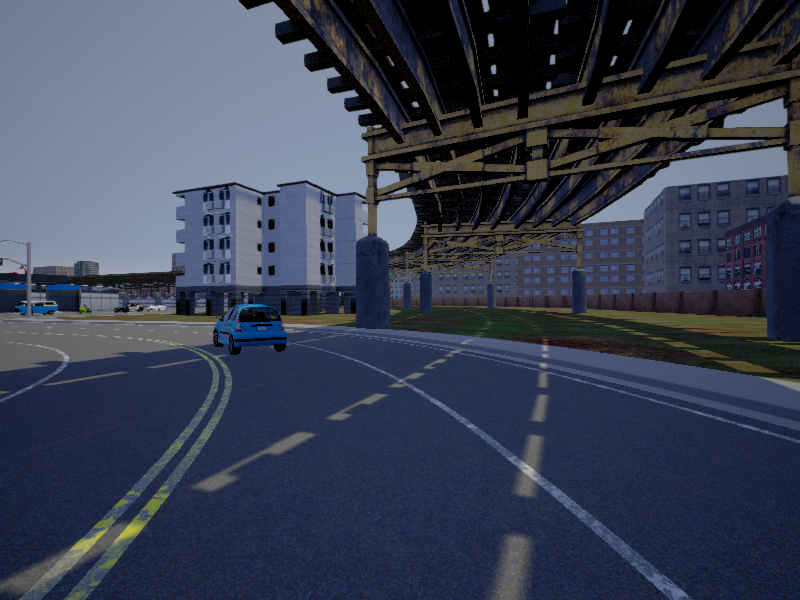Benign: (212, 304, 290, 356), (14, 302, 60, 318), (115, 303, 148, 315)
